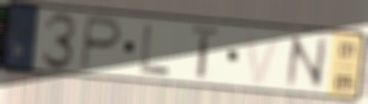3: (41, 11, 79, 72)
L: (139, 22, 173, 78)
N: (283, 32, 329, 91)
P: (77, 13, 125, 74)
T: (189, 24, 224, 83)
V: (241, 28, 286, 87)
